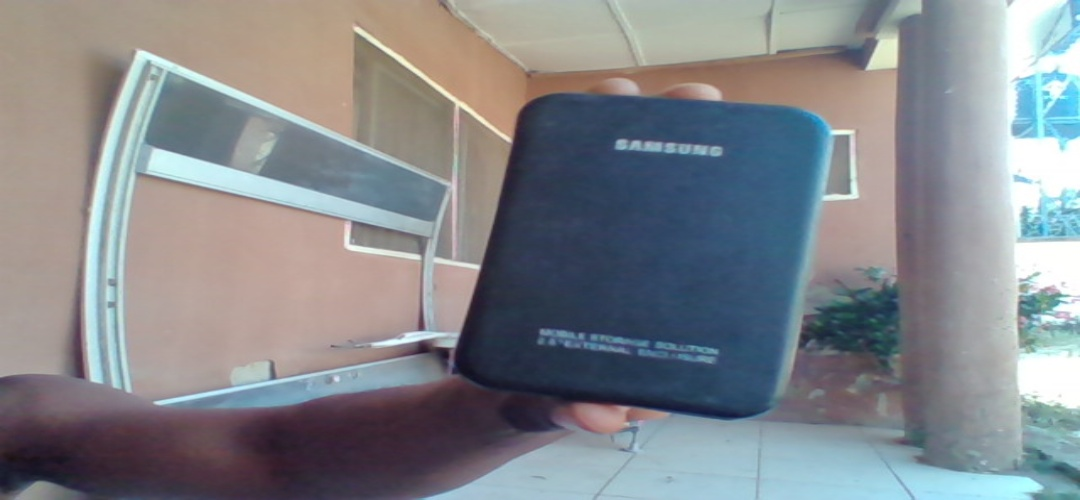hard_disk_case: (505, 90, 816, 412)
